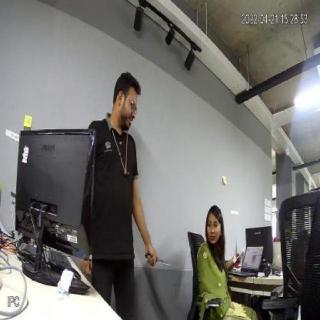knife: (149, 258, 175, 270)
